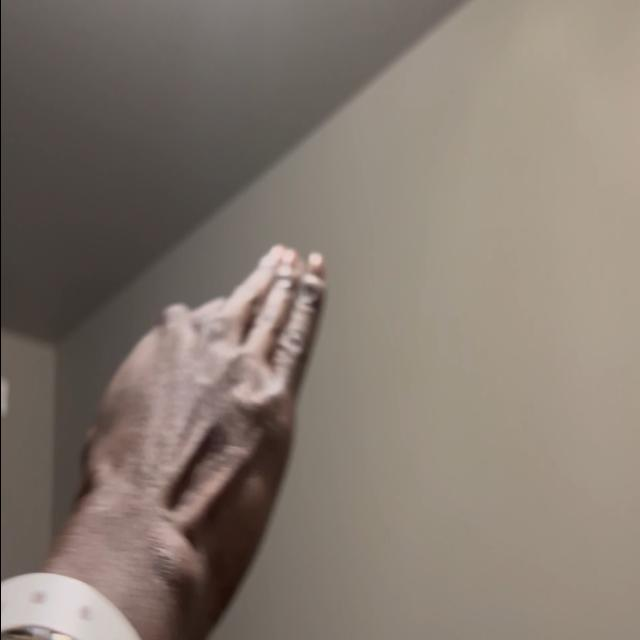Paper: (77, 249, 325, 624)
